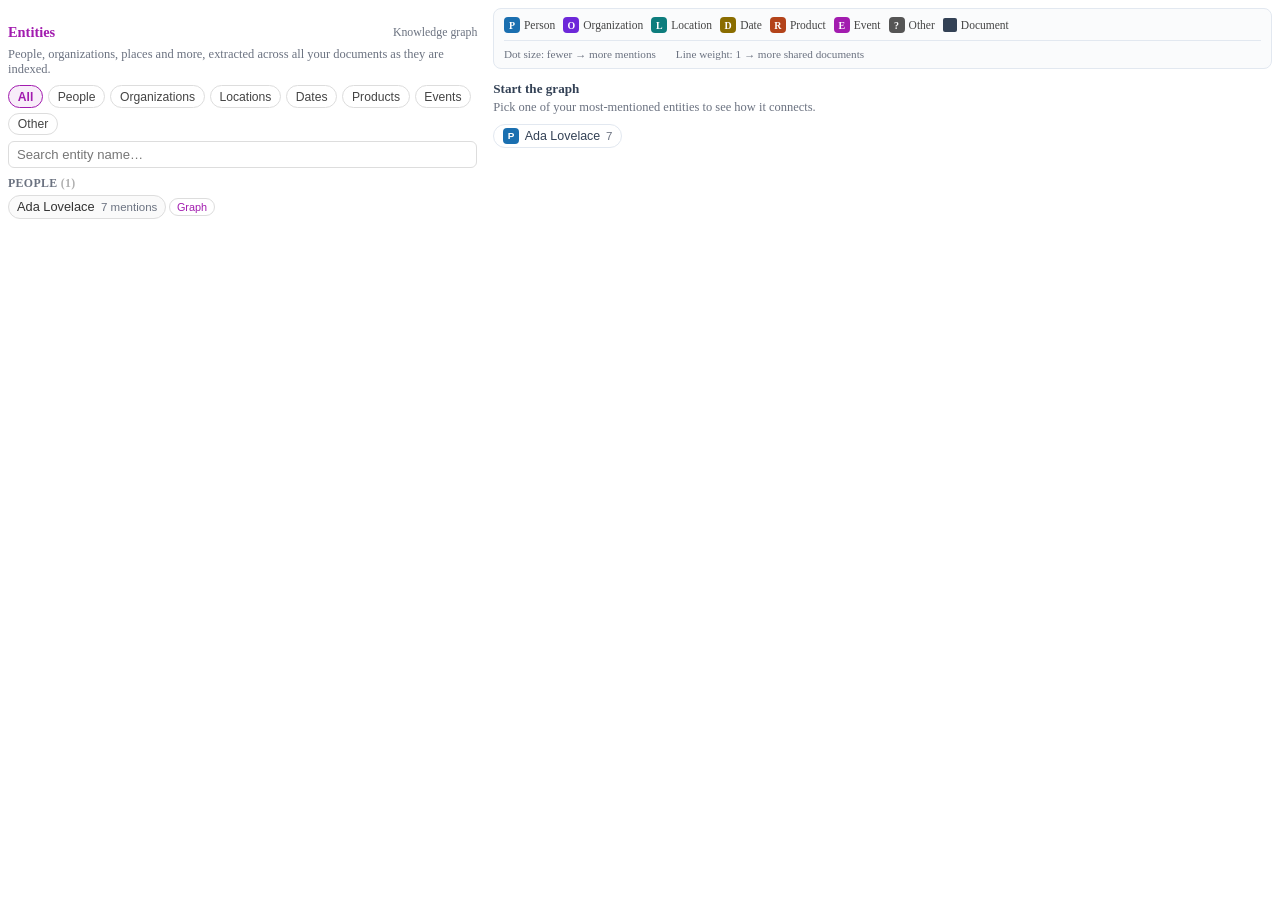
Test: clicking a top entity focuses the graph
Click the button with test id "graph-top-entity" at (558, 136), box [493,124,622,148]
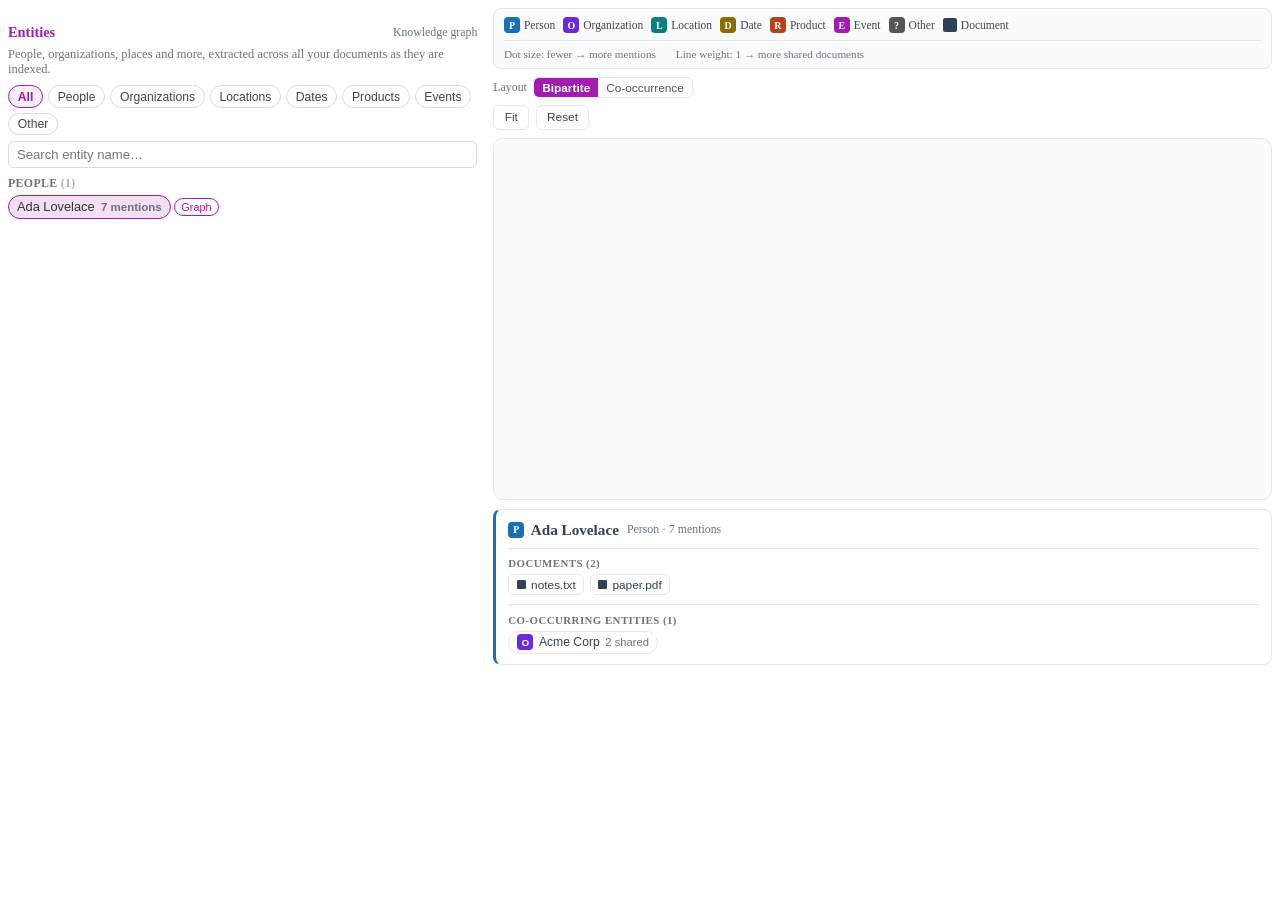
Expected: the element with test id "graph-detail" is shown, [493,509,1272,665]
